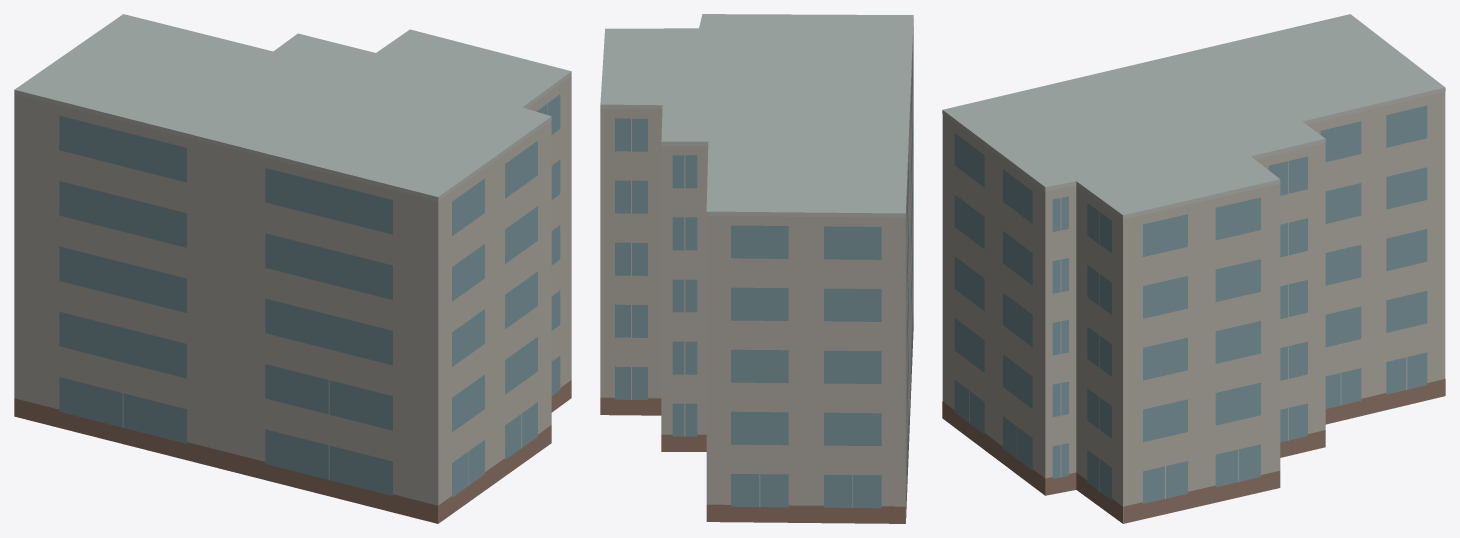
File: survey-upis-32459312.glb
3 views of the same model, side by side, from view 1: azimuth 30°, elevation 25°; view 2: azimuth 150°, elevation 25°; view 3: azimuth 270°, elevation 25° (orthographic). The views are drawn at different scales.
Visible parts, largest first — view 1: survey-upis-32459312.tmp; view 2: survey-upis-32459312.tmp; view 3: survey-upis-32459312.tmp.
Boxes of the visible parts, x1,y1,x2,y2 form: survey-upis-32459312.tmp: (14,14,571,523); survey-upis-32459312.tmp: (600,14,913,523); survey-upis-32459312.tmp: (942,14,1445,523).
Size of the model in its own units: 25.27 by 18.05 by 26.68.
